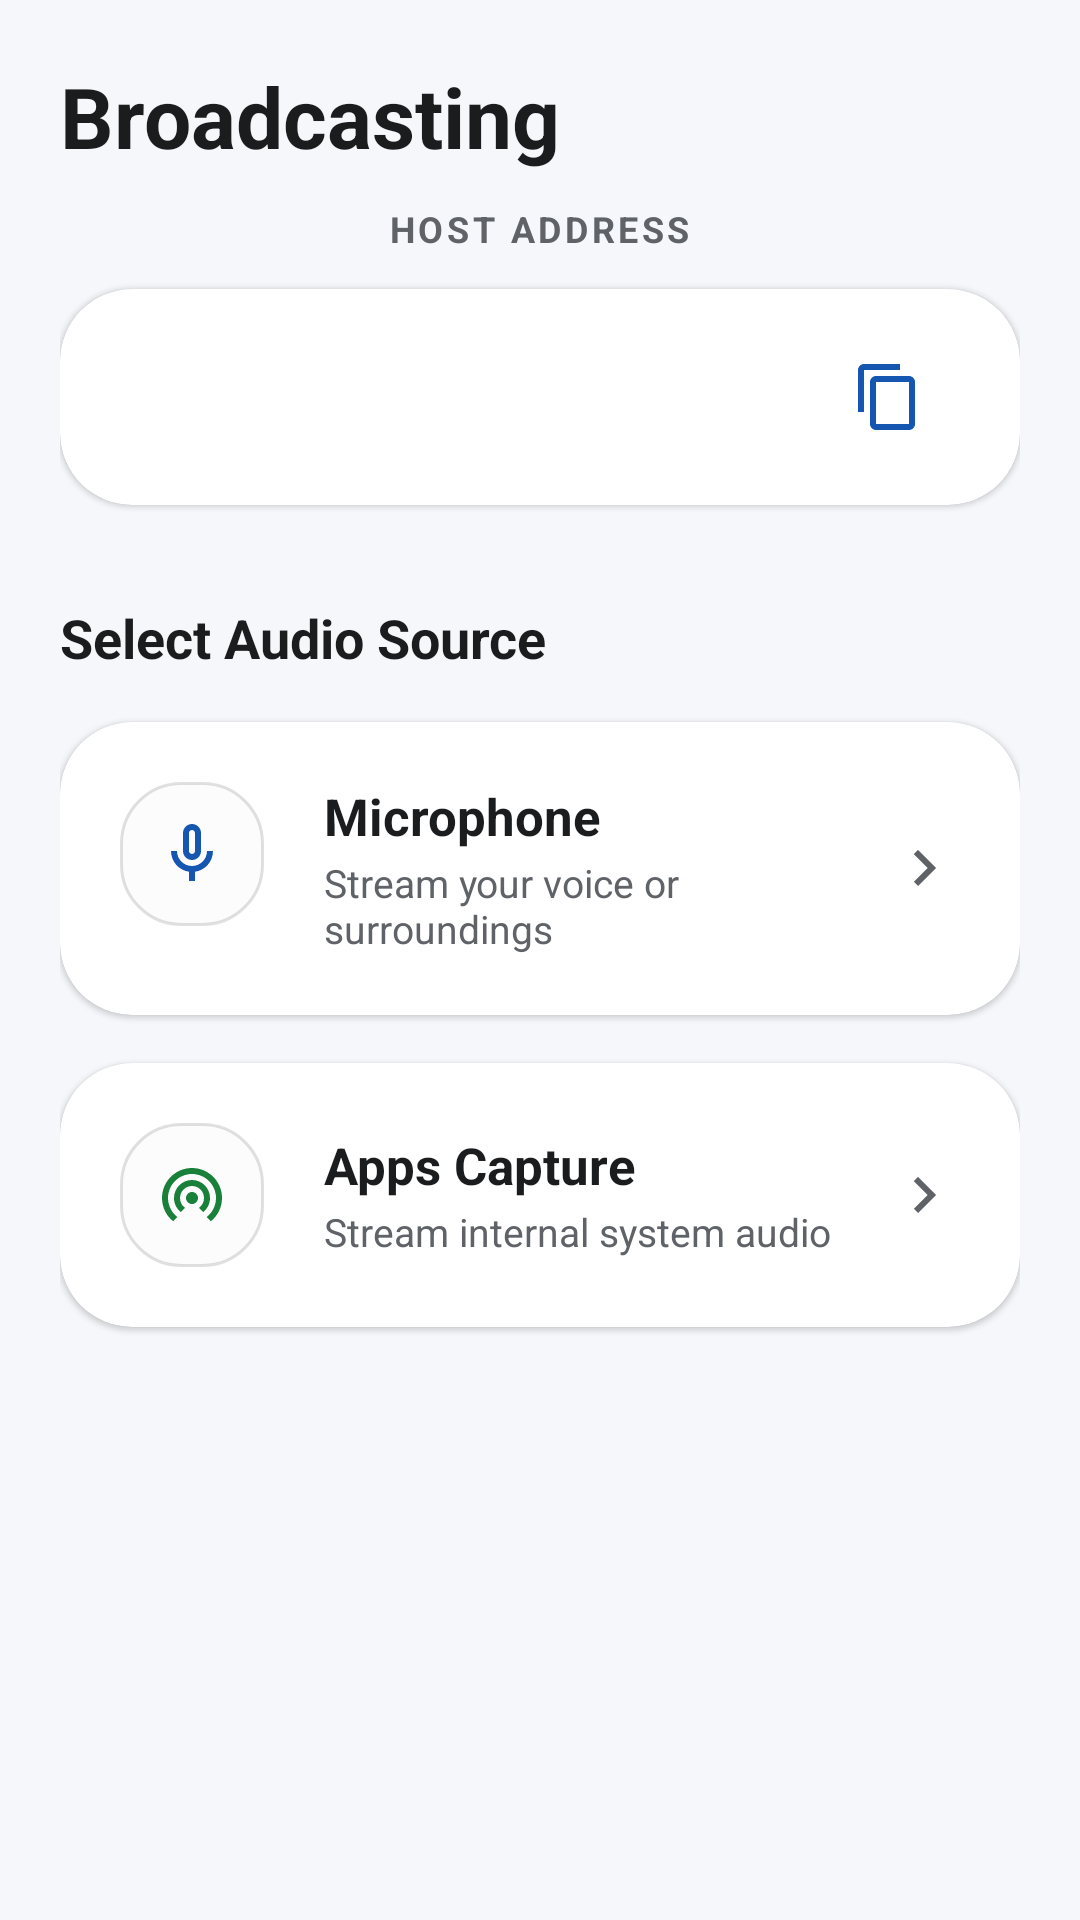

Locate icon controls on the screen. Image size 1080 × 1920, boxes as (x1, y1, x2, y2).
broadcast: (120, 1123, 264, 1267)
chevron right: (914, 850, 936, 886), (914, 1177, 936, 1213)
mic: (120, 782, 264, 926)
